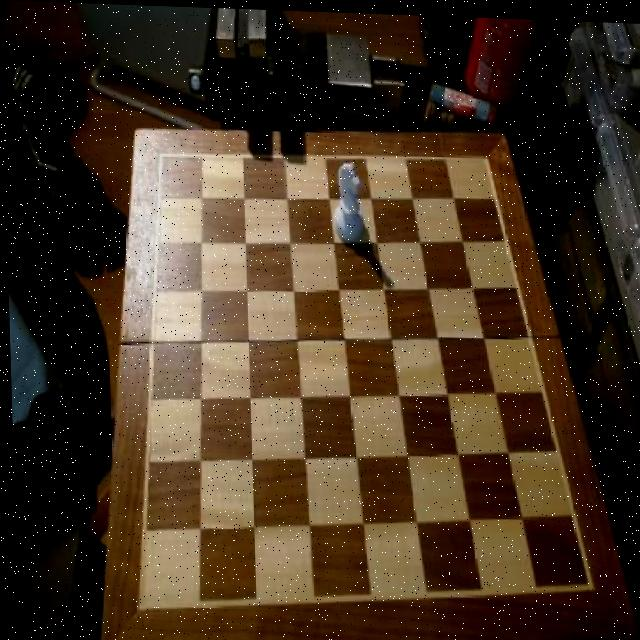white-king: (329, 159, 364, 241)
